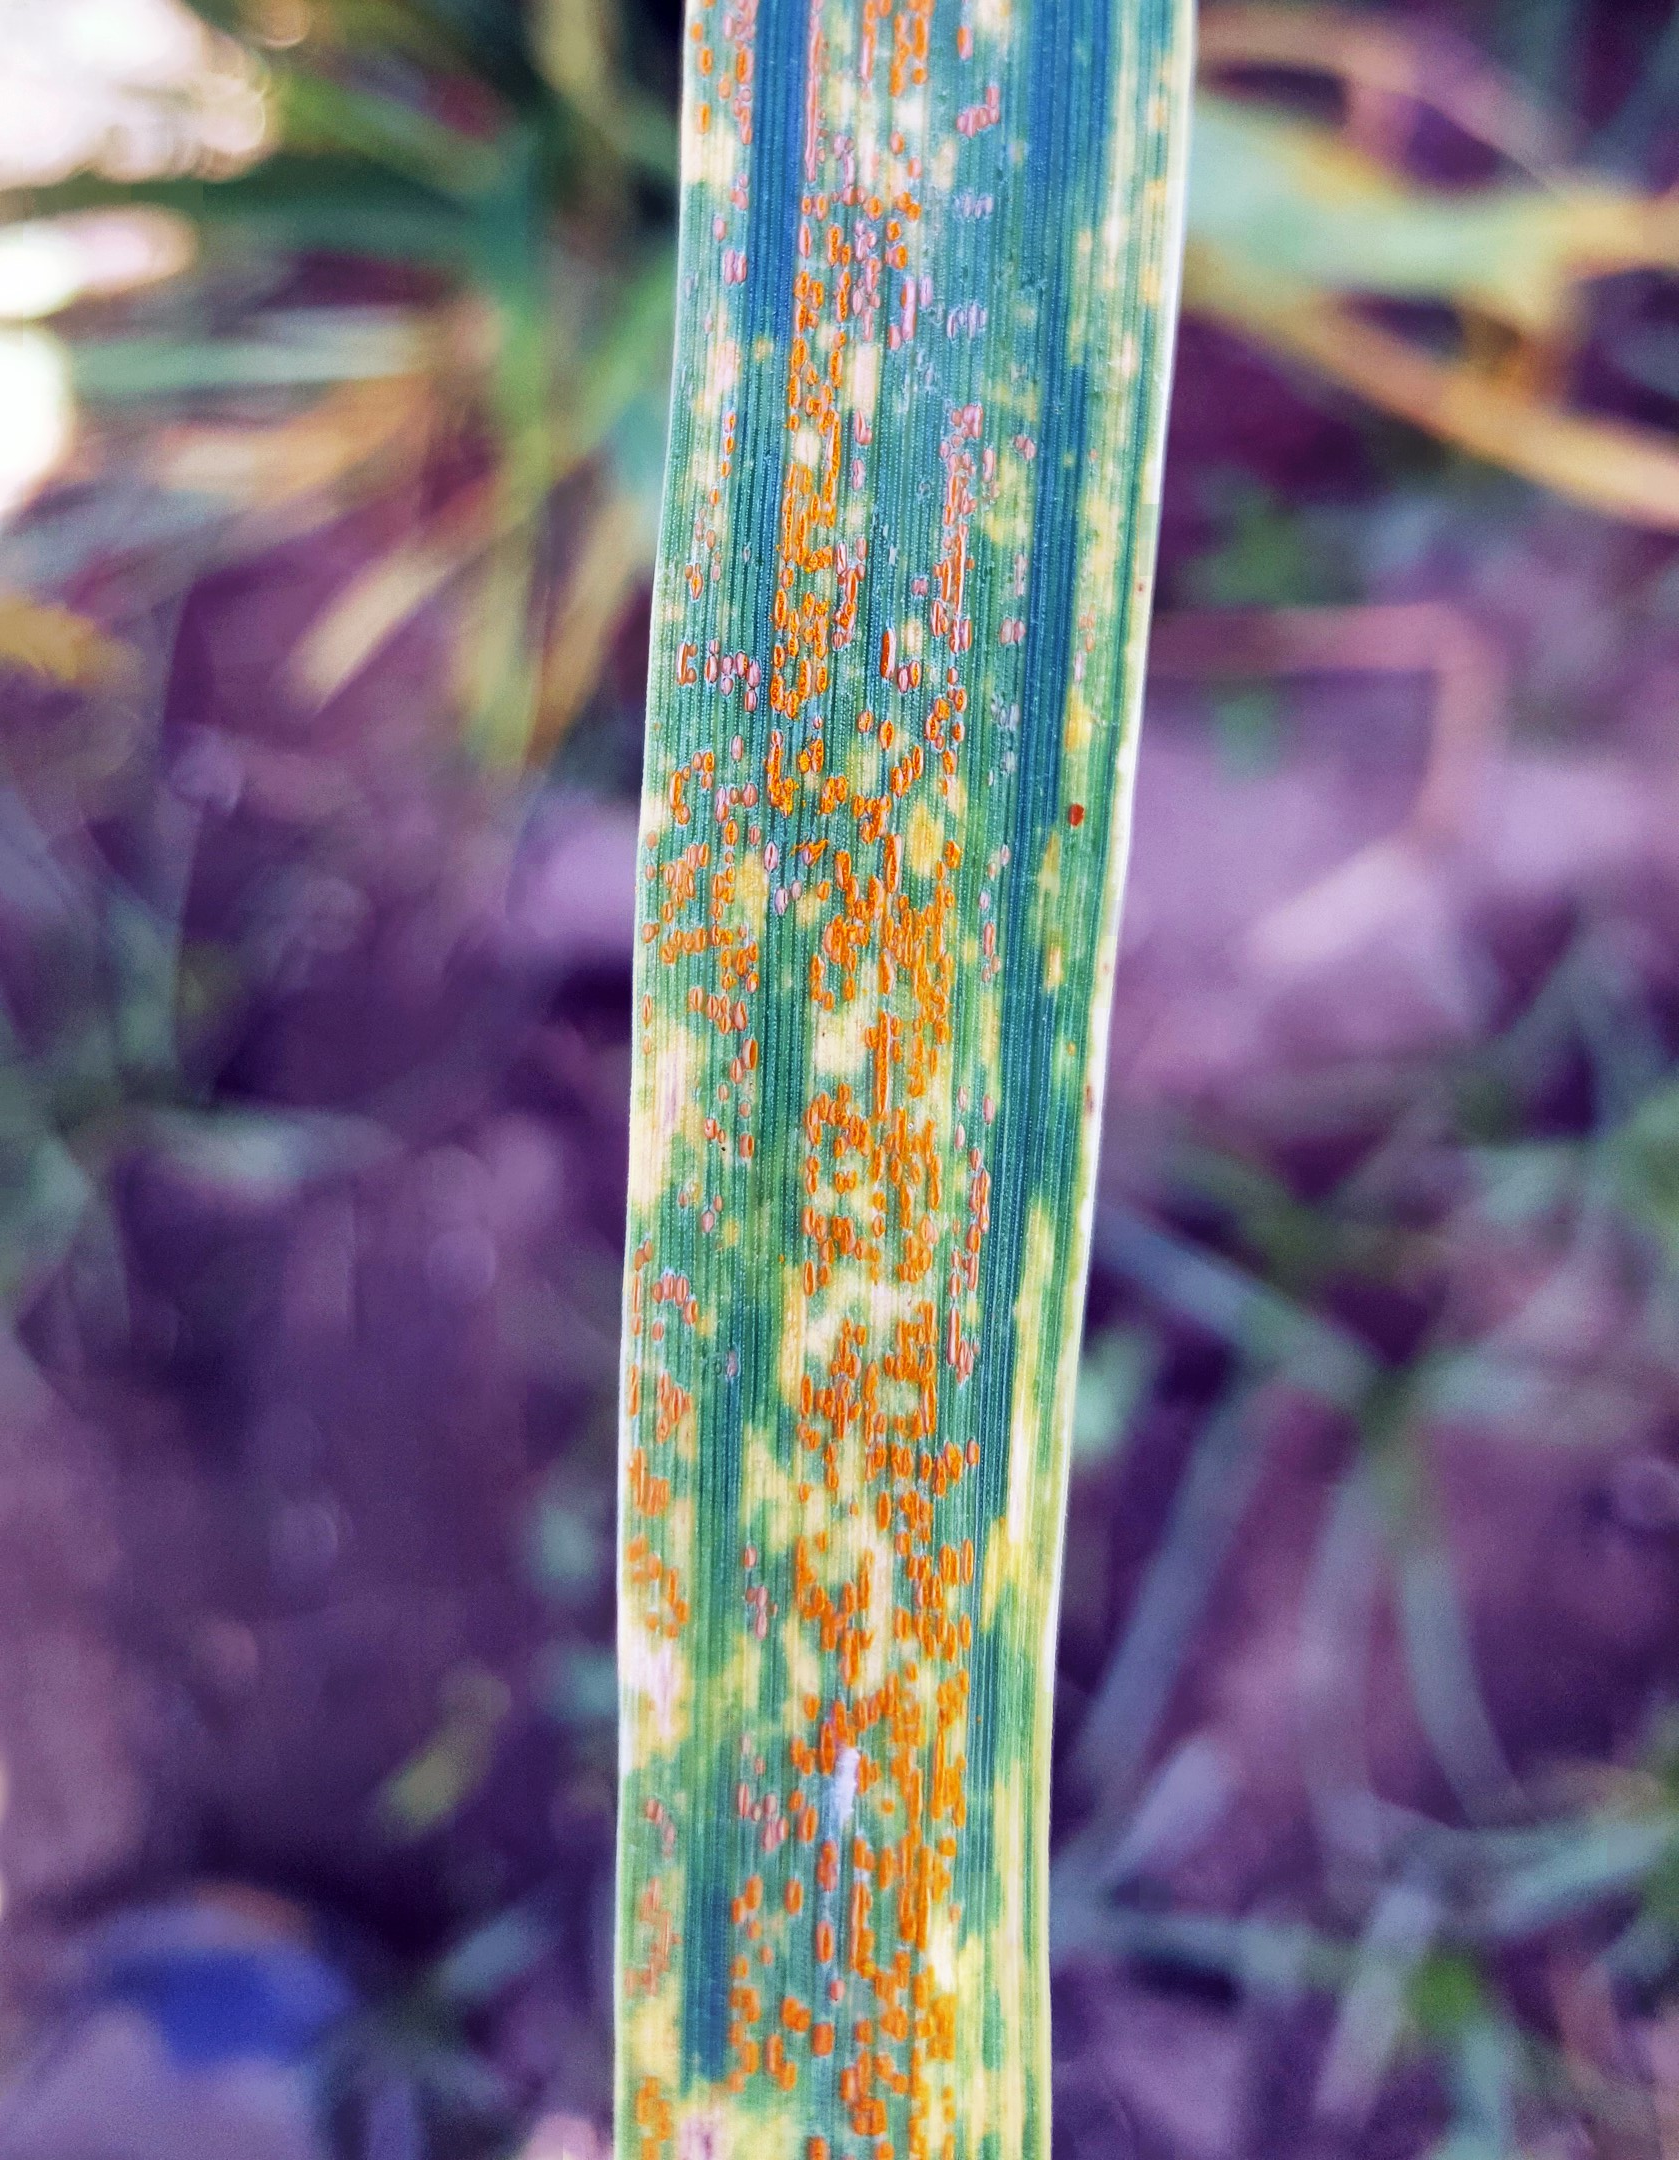Leaf Rust: (591, 16, 1125, 2141)
